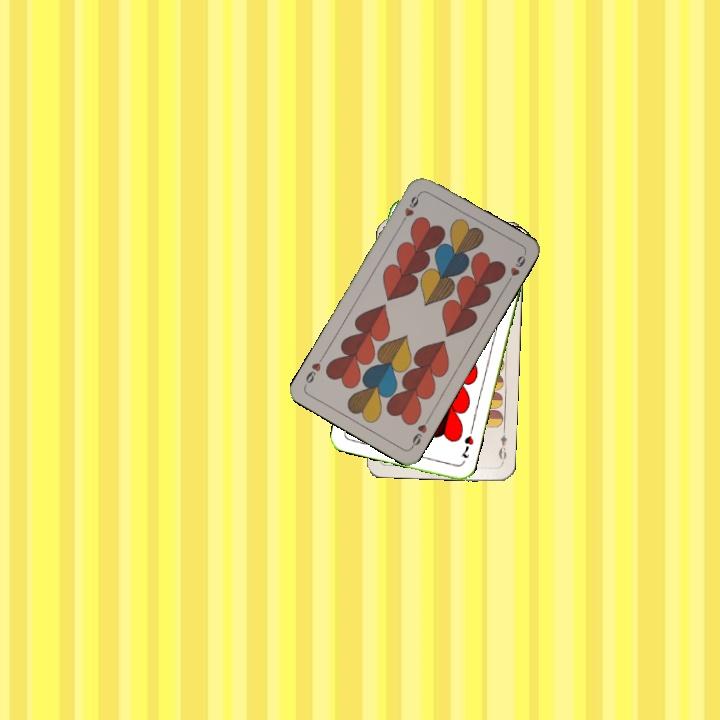E9: (495, 425, 509, 466)
H7: (457, 432, 476, 461)
H9: (397, 189, 423, 227), (407, 414, 433, 451)
